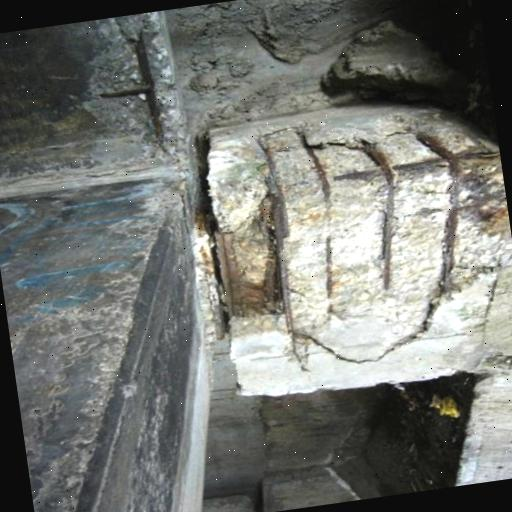spalling: (255, 95, 512, 339)
